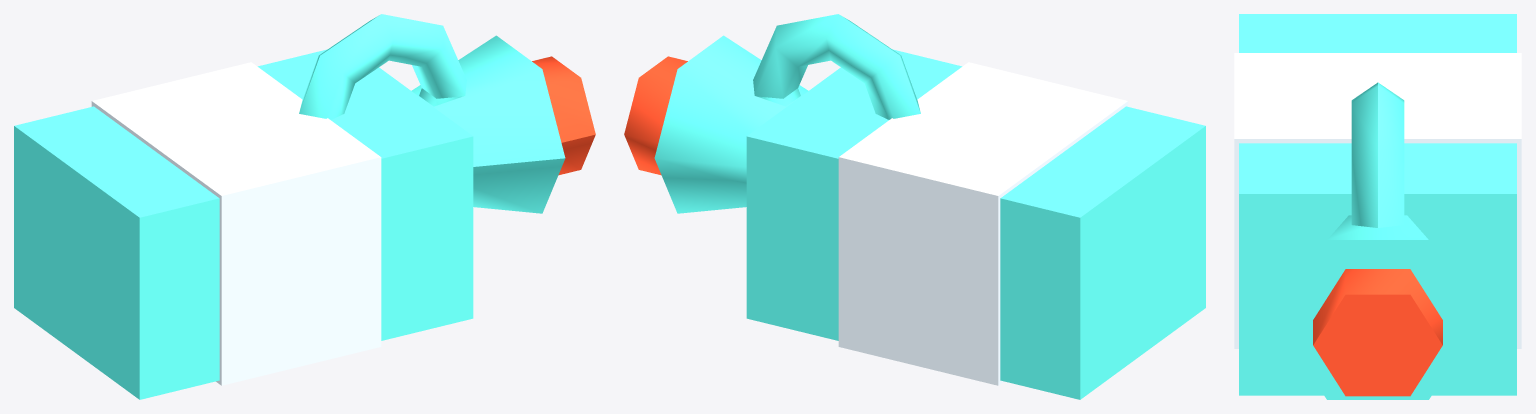
File: trash-bottle-2.glb
3 views of the same model, side by side, from view 1: azimuth 30°, elevation 25°; view 2: azimuth 150°, elevation 25°; view 3: azimuth 270°, elevation 25° (orthographic). The views are drawn at different scales.
Parts seen in each view (by area): view 1: trash-bottle-2; view 2: trash-bottle-2; view 3: trash-bottle-2.
Boxes of the visible parts, x1=… form: trash-bottle-2: x1=14, y1=14, x2=595, y2=399; trash-bottle-2: x1=624, y1=14, x2=1205, y2=399; trash-bottle-2: x1=1234, y1=14, x2=1521, y2=399.
Size of the model in its own units: 0.675 by 0.355 by 0.31.
